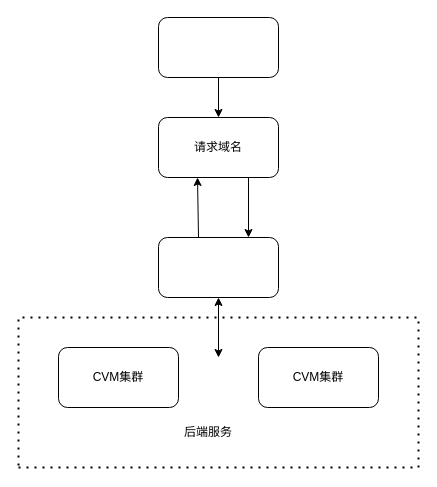
The diagram is 437 pixels wide and 487 high, and some of its shapes have lost their labels. The centre of each missing label's shape, as x and y in pixels:
"CLB负载均衡" goes at (218,267).
"用户端" goes at (218,47).
